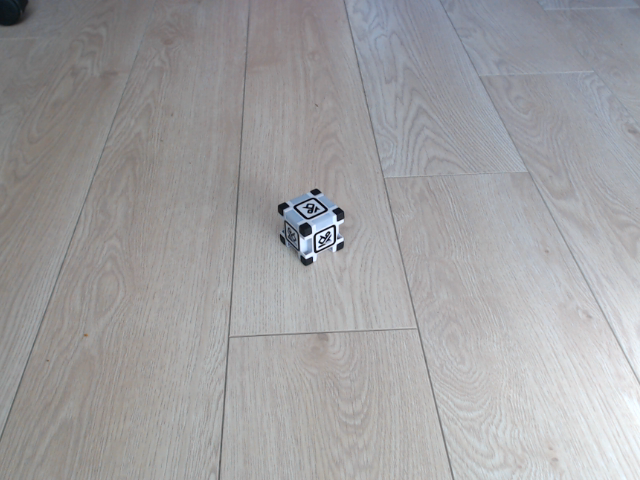block: (274, 185, 352, 269)
